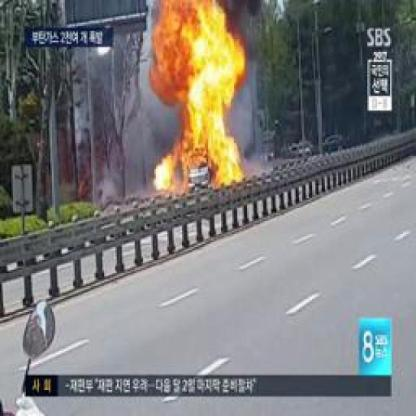fire: (149, 1, 244, 192)
